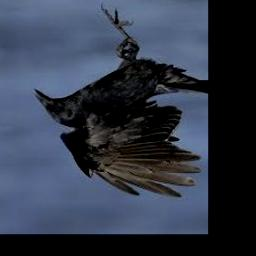Crow: (32, 1, 208, 198)
